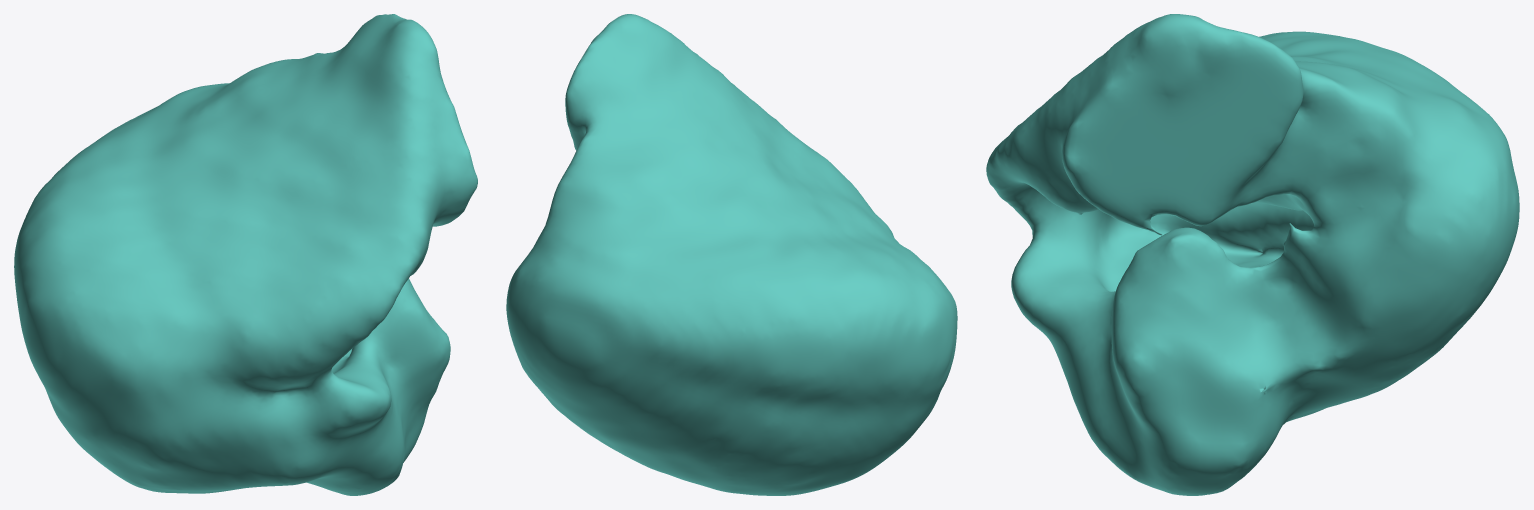
File: cerebellum_hemisphere_left.glb
The picture shows the model from 3 angles, left to right: view 1: azimuth 30°, elevation 25°; view 2: azimuth 150°, elevation 25°; view 3: azimuth 270°, elevation 25°; orthographic projection. The views are drawn at different scales.
Visible parts, largest first — view 1: Hemisferio Cerebeloso Izquierdo; view 2: Hemisferio Cerebeloso Izquierdo; view 3: Hemisferio Cerebeloso Izquierdo.
Boxes of the visible parts, box(x1,y1,x2,y2) form: Hemisferio Cerebeloso Izquierdo: box(14, 14, 477, 495); Hemisferio Cerebeloso Izquierdo: box(506, 14, 957, 495); Hemisferio Cerebeloso Izquierdo: box(986, 14, 1519, 495).
Bounding box in the file's own units: 1.98 × 2.28 × 2.19.
